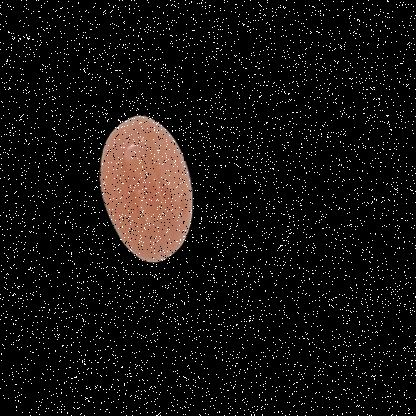opiqutan: (73, 80, 218, 304)
